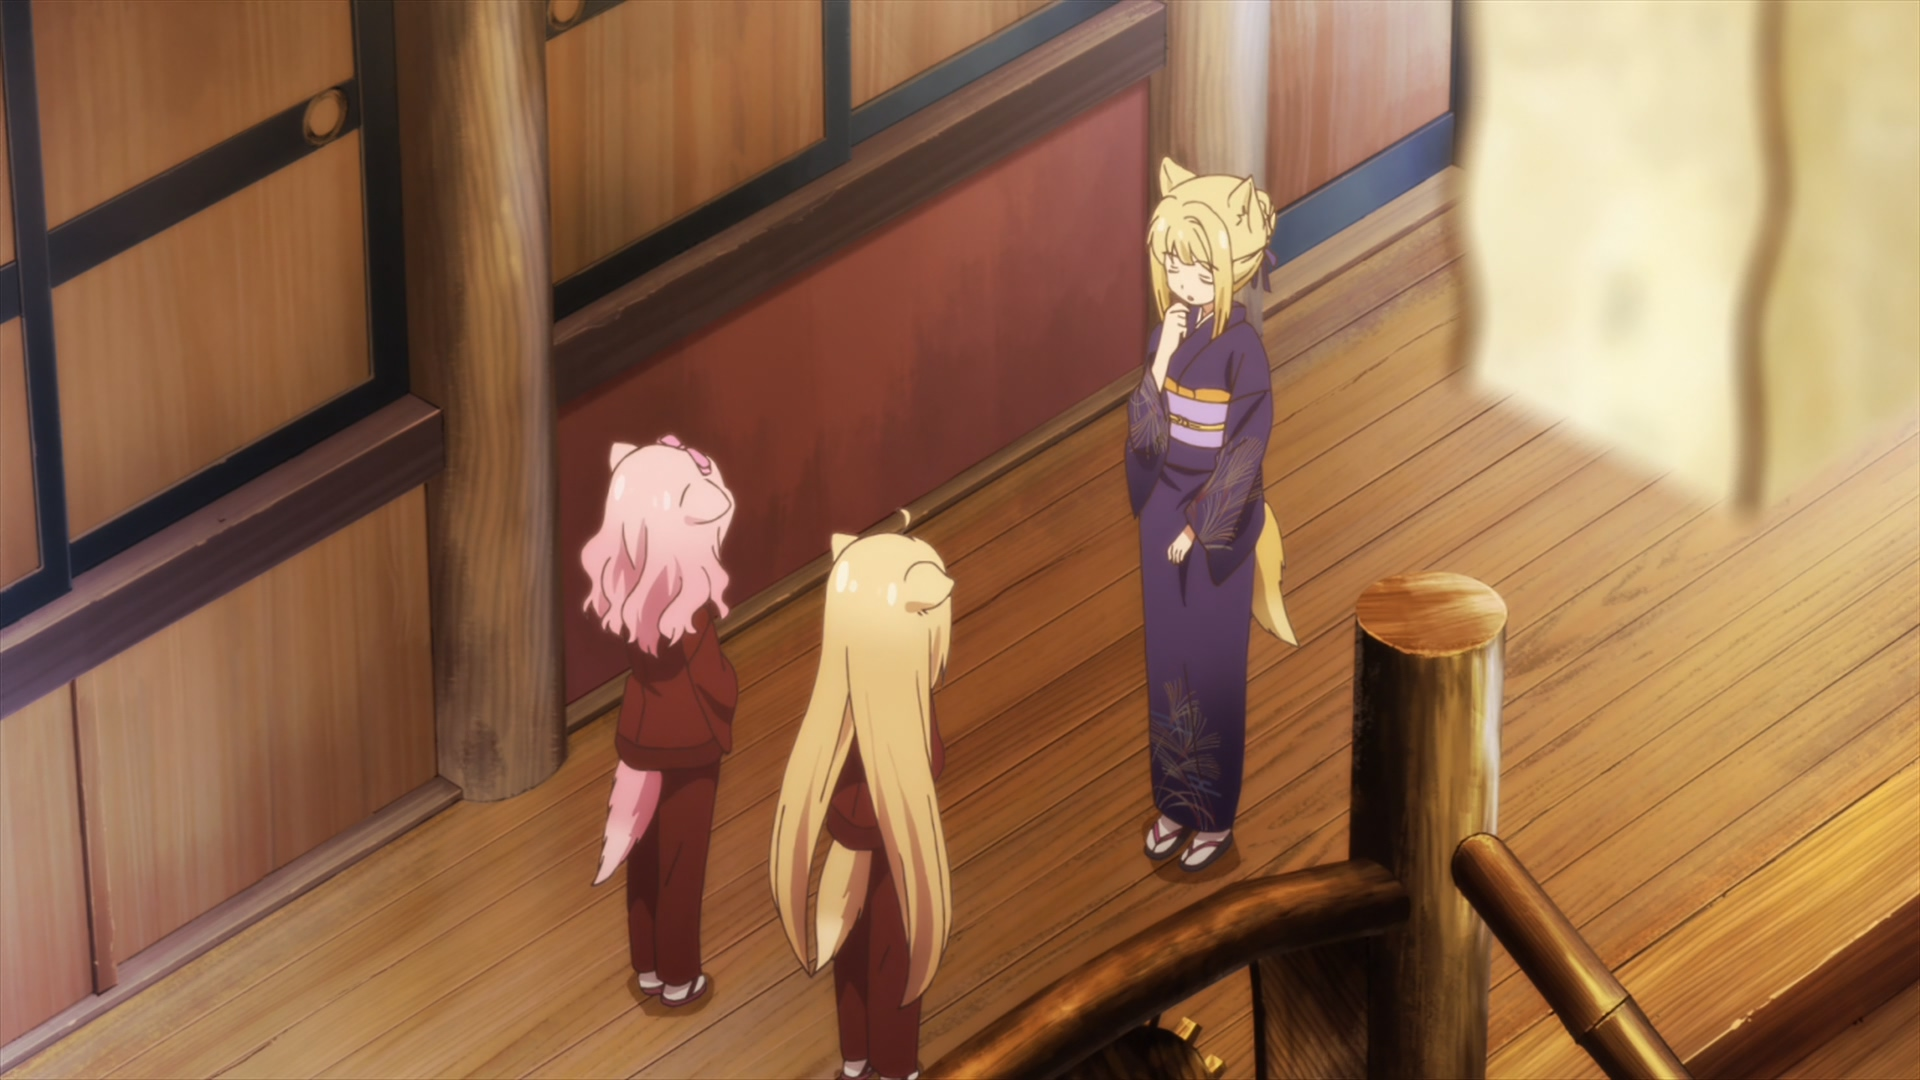柚: (771, 509, 952, 1080)
桐: (1126, 158, 1298, 876)
莲: (582, 433, 738, 1009)
